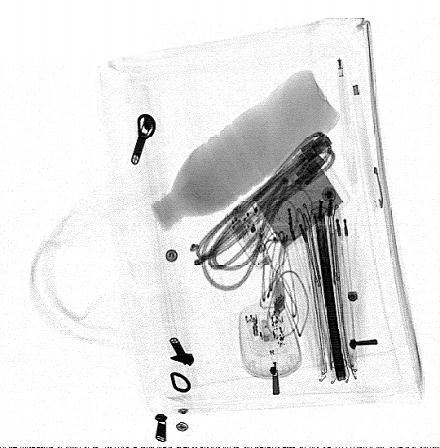Powerbank: (224, 144, 351, 271)
